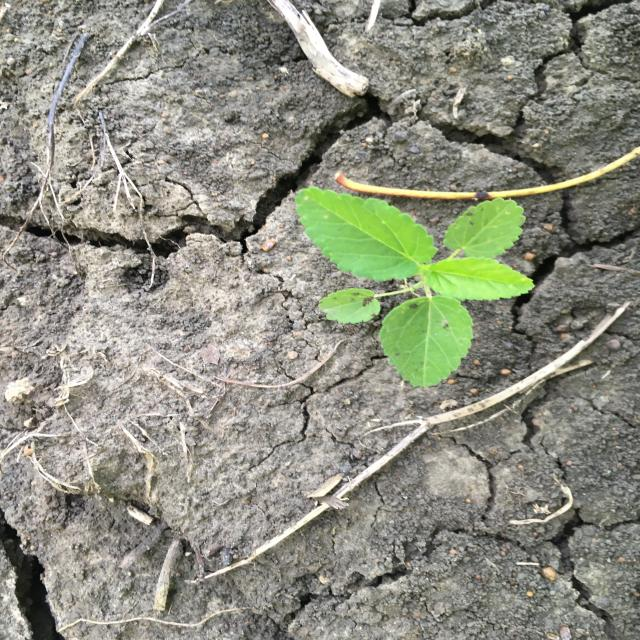PricklySida: (290, 186, 538, 391)
